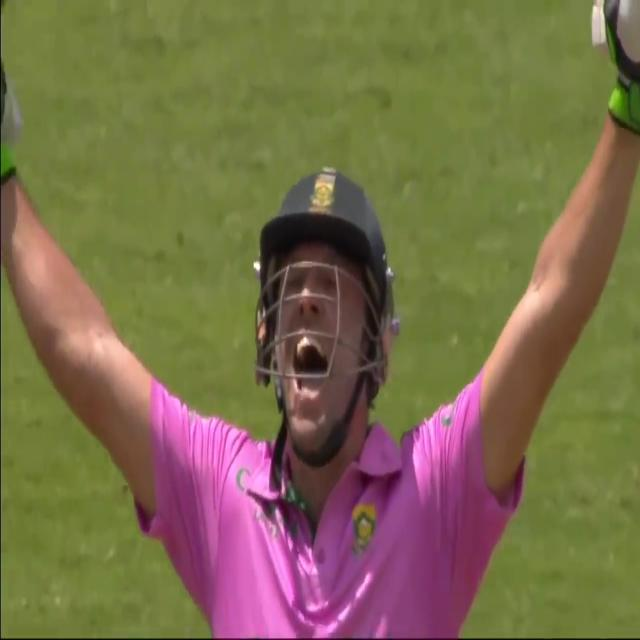Ball: (165, 10, 557, 640)
